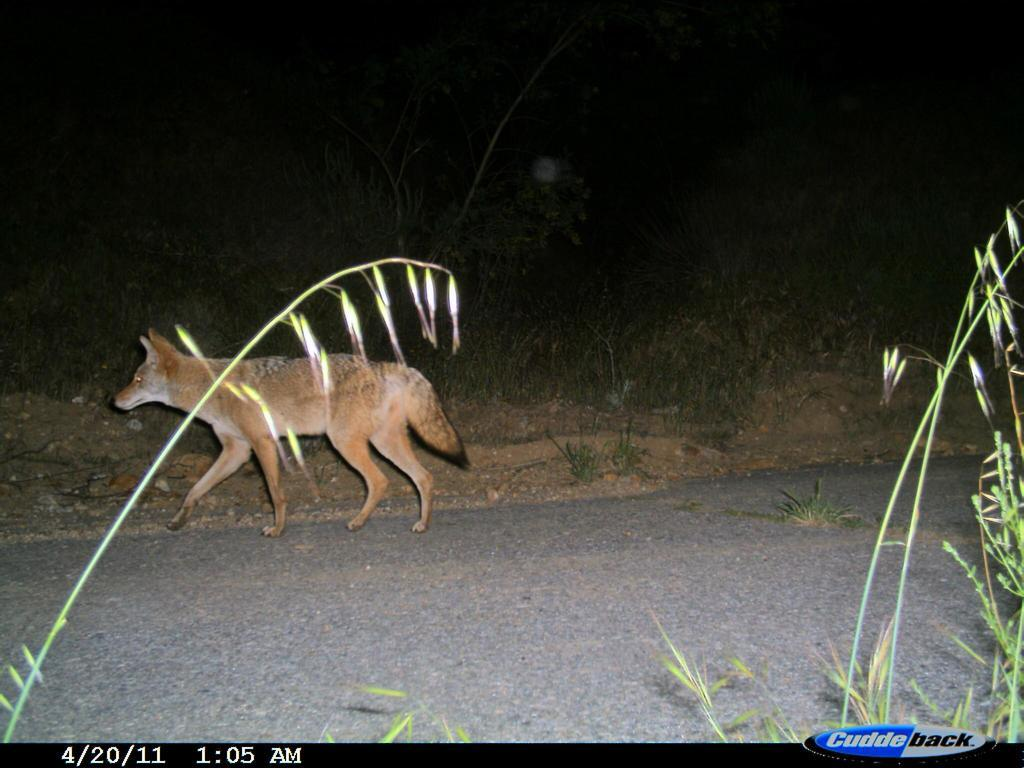coyote: (108, 323, 481, 550)
